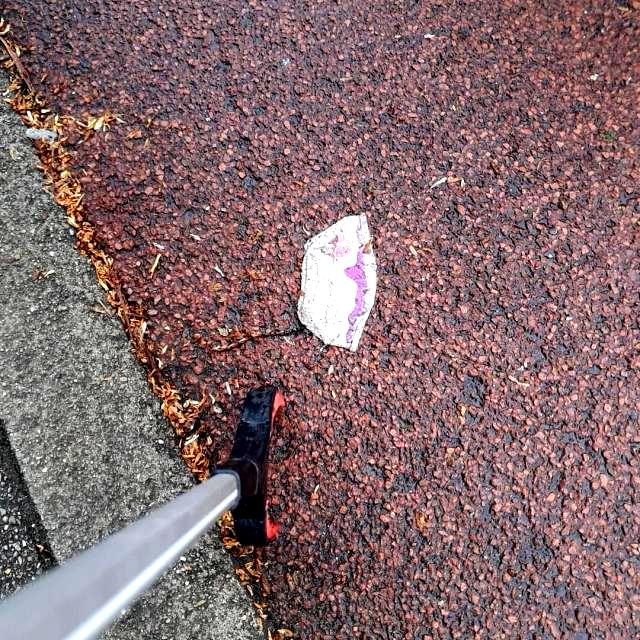Paper: (294, 210, 378, 354)
